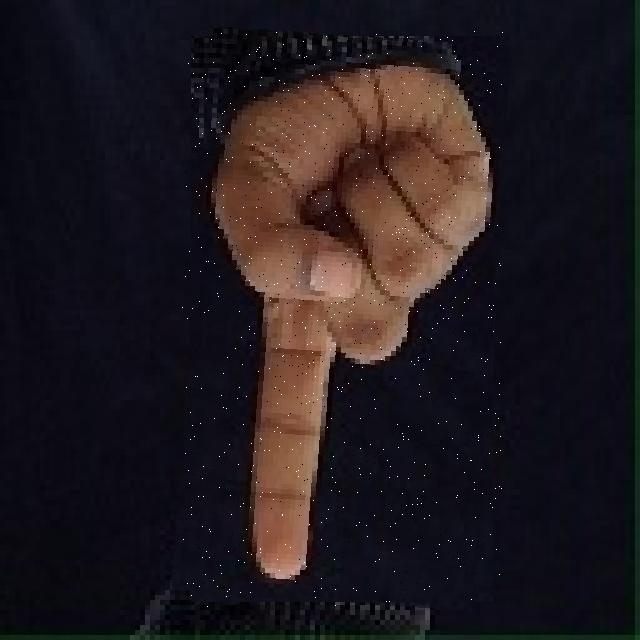IloveYou: (182, 31, 503, 607)
